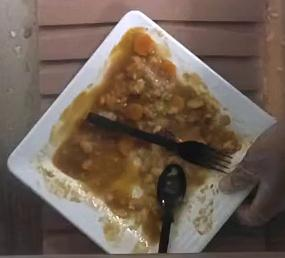curry: (94, 33, 223, 143)
